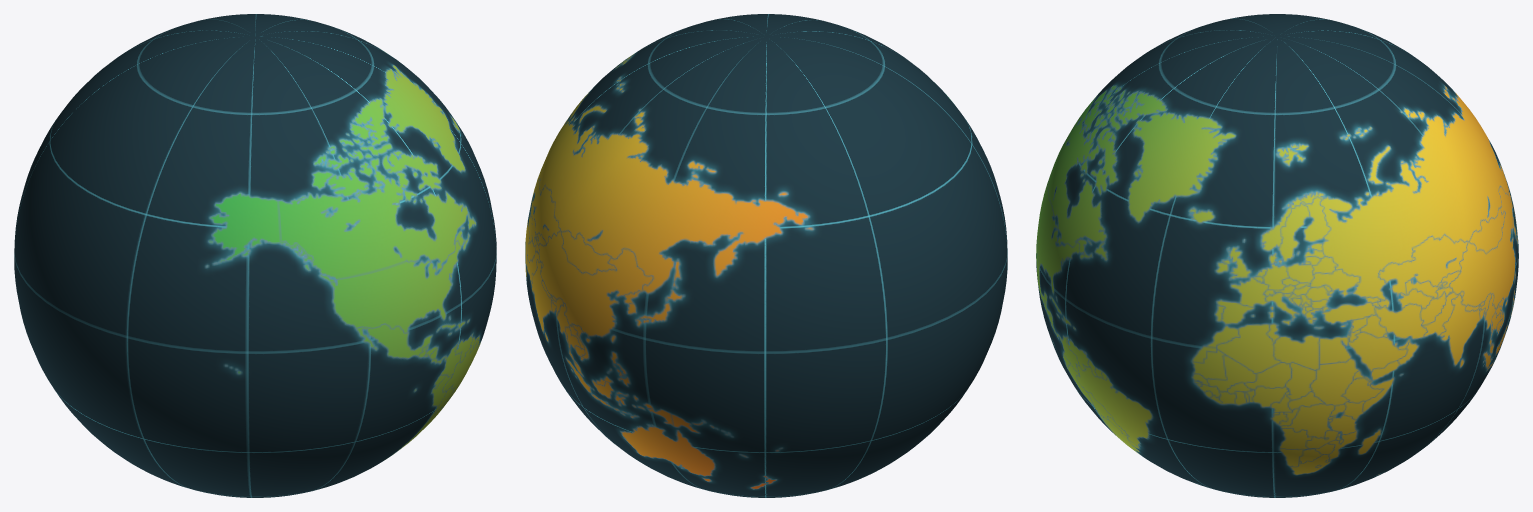
File: earth.glb
3 renders of one model, left to right at view 1: azimuth 30°, elevation 25°; view 2: azimuth 150°, elevation 25°; view 3: azimuth 270°, elevation 25°, orthographic.
Visible parts, largest first — view 1: Сфера; view 2: Сфера; view 3: Сфера.
Part boxes in pixels (<box>): Сфера: <box>14,14,496,497</box>; Сфера: <box>525,14,1007,497</box>; Сфера: <box>1036,14,1518,497</box>.
Size of the model in its own units: 1.99 by 2 by 1.99.
Materials: 1 (1 with a texture image).
